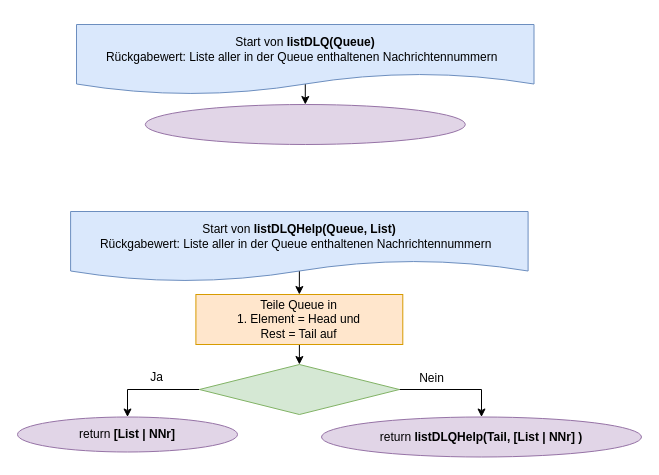
This 659x475 diagram has some shape labels left out. The shapes that lost their labels are listed below. From the top down, each one's centre as x and y in pixels, then its label:
[304,124]: return listDLQHelp(Queue, [] )
[298,389]: Tail == [ ]
